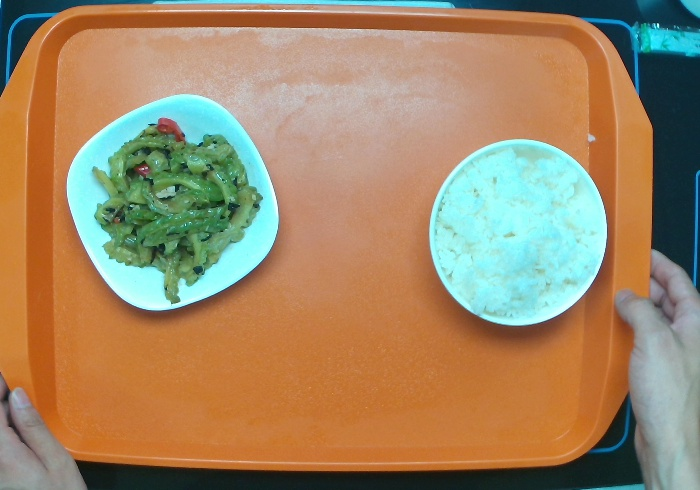ZNLD-Fan_Wan: (427, 137, 609, 327)
ZNLD-Si_Fang_Wan: (65, 92, 280, 312)
